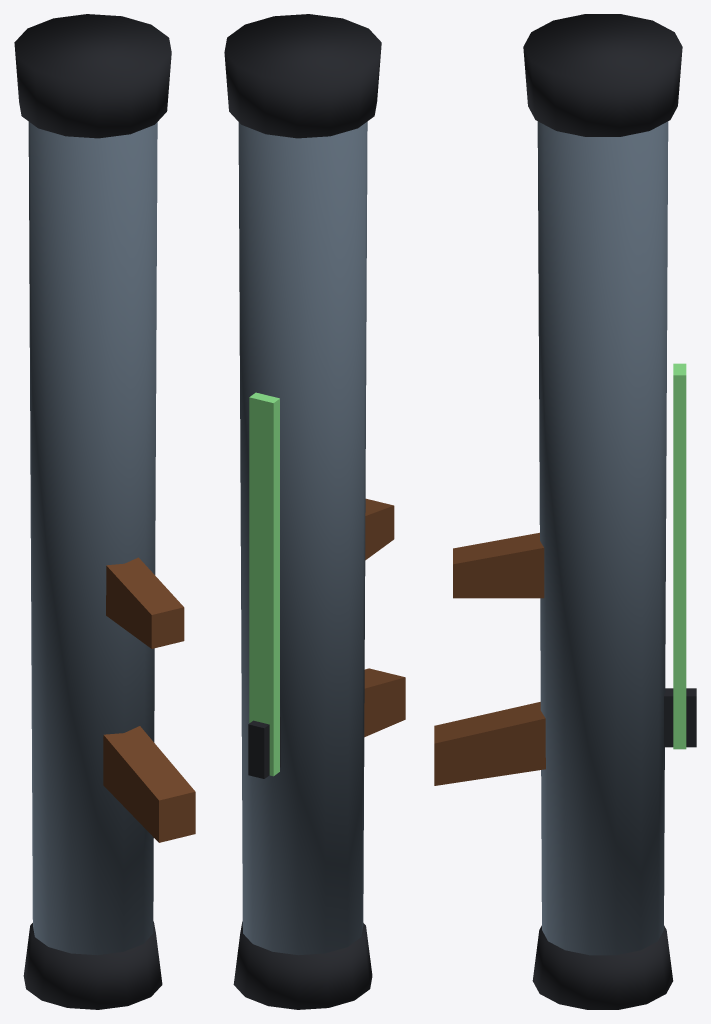
File: xenopopper.glb
The picture shows the model from 3 angles, left to right: view 1: azimuth 30°, elevation 25°; view 2: azimuth 150°, elevation 25°; view 3: azimuth 270°, elevation 25°; orthographic projection.
Visible parts, largest first — view 1: xenopopper_v0; view 2: xenopopper_v0; view 3: xenopopper_v0.
Part boxes in pixels (x1,y1,x2,y2): xenopopper_v0: (14,14,195,1009); xenopopper_v0: (224,14,405,1009); xenopopper_v0: (434,14,696,1009).
Bounding box in the file's own units: 0.1657 × 1.1 × 0.28.
